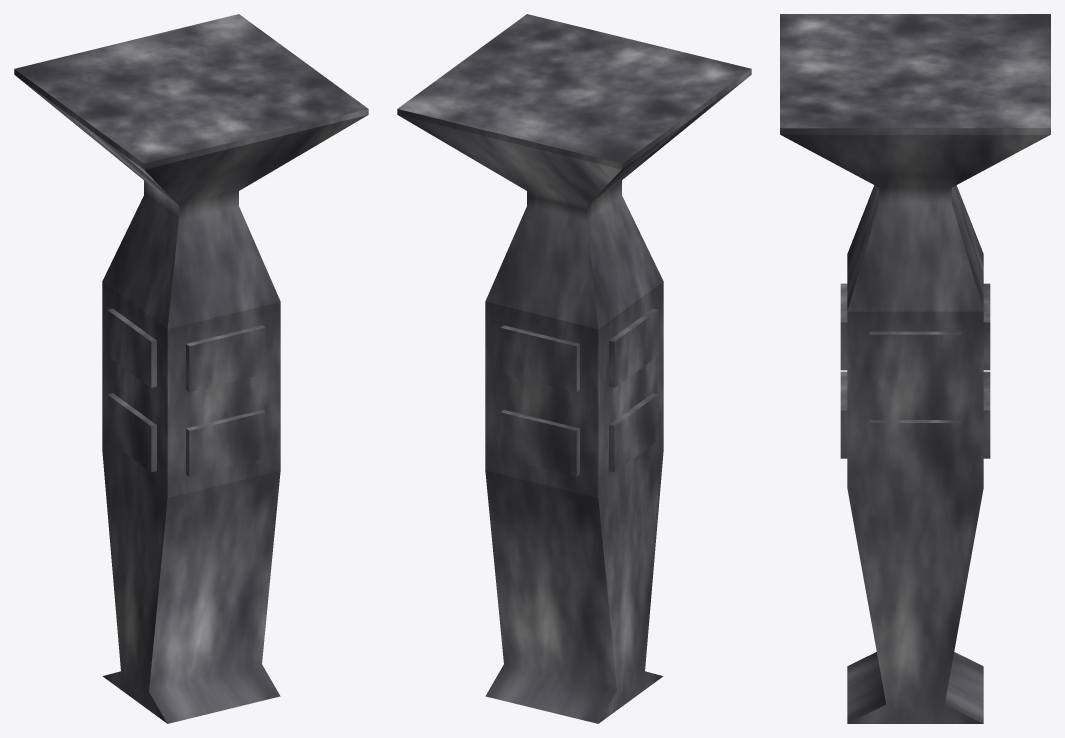
Rendered from rack.fbx.
3 renders of one model, left to right at view 1: azimuth 30°, elevation 25°; view 2: azimuth 150°, elevation 25°; view 3: azimuth 270°, elevation 25°, orthographic. The views are drawn at different scales.
Visible parts, largest first — view 1: rack; view 2: rack; view 3: rack.
Part boxes in pixels (x1,y1,x2,y2): rack: (14,14,368,723); rack: (397,14,751,723); rack: (780,14,1050,723).
Bounding box in the file's own units: 15.64 × 39.76 × 15.64.
1 material, 1 textured.
